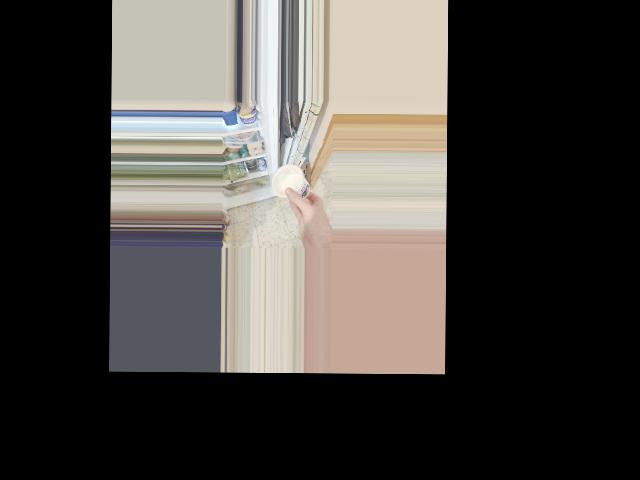cotage: (270, 160, 312, 202)
